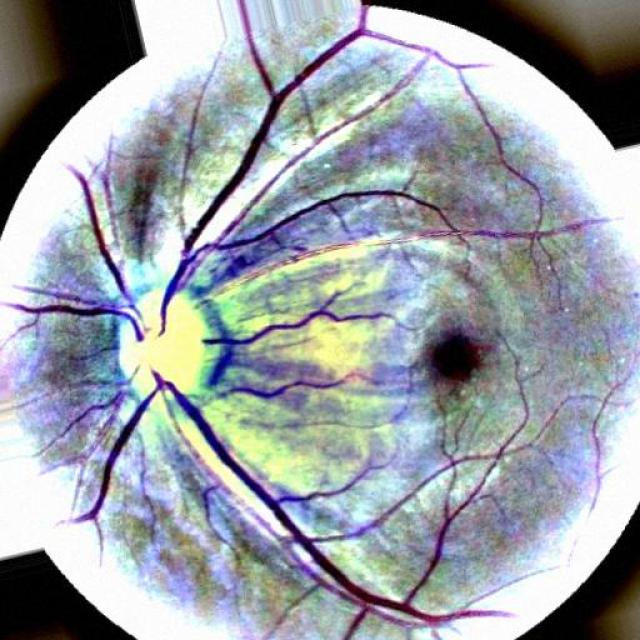Macula: (428, 328, 481, 381)
Nerves: (158, 0, 546, 338), (62, 368, 526, 639), (0, 165, 144, 342), (202, 291, 392, 386), (250, 106, 372, 208), (230, 370, 360, 399), (60, 390, 122, 436)
Optic Disk: (120, 285, 209, 395)
